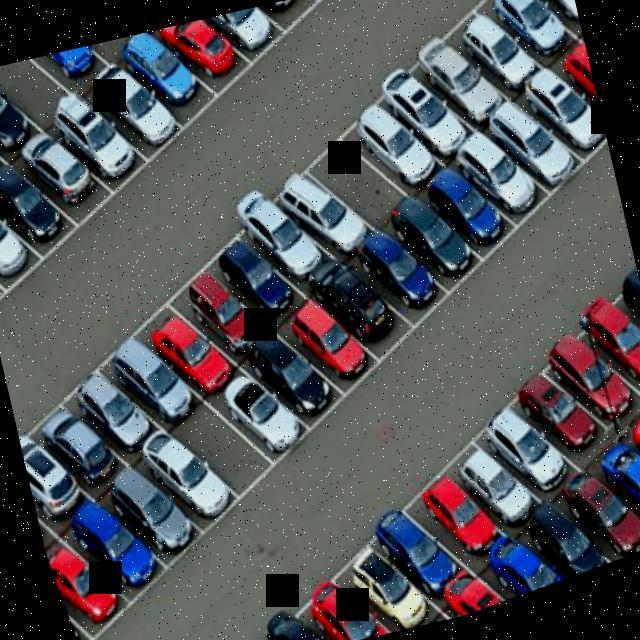car: (135, 278, 245, 416), (529, 317, 640, 451), (398, 448, 510, 576), (360, 489, 474, 614), (499, 352, 611, 478), (443, 112, 554, 238), (462, 386, 578, 506), (266, 138, 374, 266), (432, 414, 538, 540), (284, 284, 394, 404), (137, 419, 246, 540), (30, 370, 126, 504), (246, 318, 352, 439), (487, 88, 595, 206), (65, 338, 164, 466), (208, 210, 306, 336), (333, 520, 435, 640), (210, 360, 320, 470), (342, 92, 448, 206), (105, 454, 202, 578), (234, 168, 332, 290), (420, 156, 526, 268), (310, 252, 414, 366), (66, 489, 168, 604), (118, 27, 224, 137), (105, 314, 198, 438), (178, 248, 274, 367), (386, 189, 487, 301), (516, 60, 611, 176), (350, 220, 448, 332), (372, 54, 466, 168), (53, 96, 154, 202), (14, 119, 109, 228), (553, 451, 640, 567), (86, 62, 184, 164), (407, 29, 503, 133), (511, 478, 603, 585), (12, 395, 86, 526), (44, 528, 130, 638), (563, 286, 640, 401), (159, 11, 255, 102), (448, 0, 539, 95), (0, 154, 76, 263), (293, 554, 389, 640), (198, 1, 290, 72), (14, 42, 111, 106), (474, 0, 571, 61), (554, 32, 605, 140), (0, 185, 47, 299), (599, 425, 640, 550), (596, 261, 640, 372), (0, 61, 39, 170), (234, 0, 322, 40), (622, 402, 640, 515), (508, 0, 578, 29), (0, 213, 9, 319)
free: (302, 116, 408, 237), (172, 397, 280, 506), (0, 51, 76, 129), (56, 33, 146, 77)
